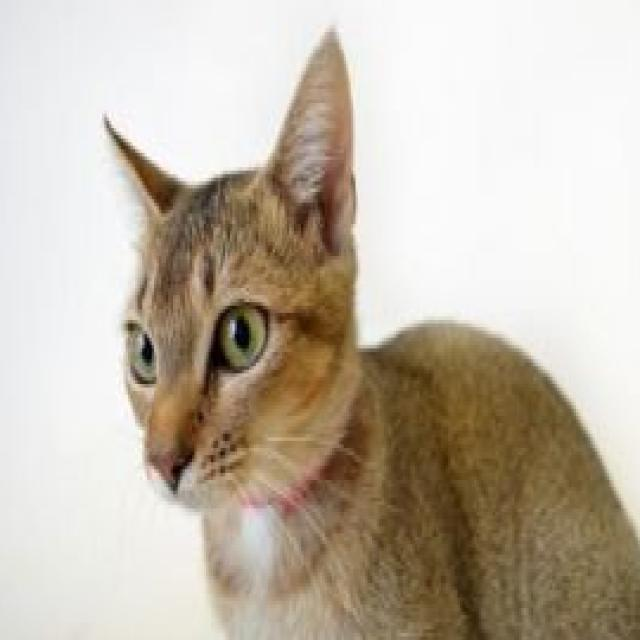Abyssinian: (99, 18, 640, 640)
